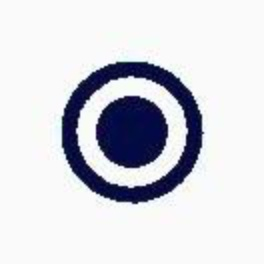RadioButton: (1, 1, 263, 263)
